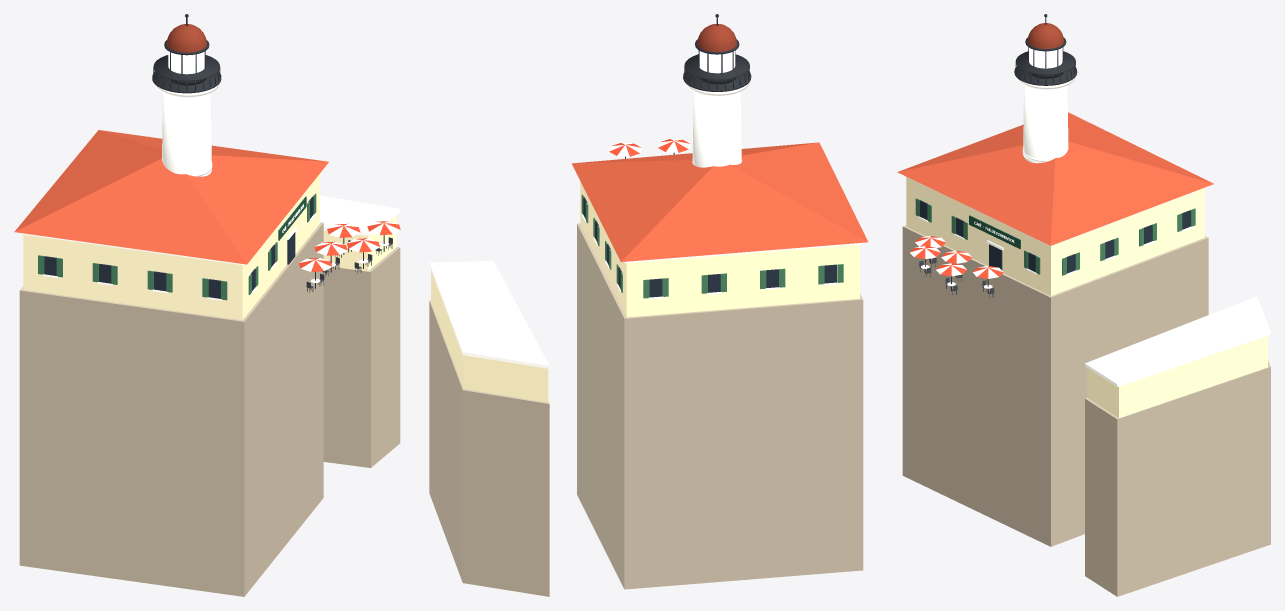
Rendered from formentor.glb.
3 renders of one model, left to right at view 1: azimuth 30°, elevation 25°; view 2: azimuth 150°, elevation 25°; view 3: azimuth 270°, elevation 25°, orthographic. The views are drawn at different scales.
Visible parts, largest first — view 1: Plinth, Roof, NEPlinth, Walls, Tower, NERoof, NEWalls, Dome, Rail, Gallery, Lantern; view 2: Plinth, Roof, NEPlinth, Walls, NERoof, NEWalls, Tower, Dome, Rail, Lantern, Gallery; view 3: Plinth, NEPlinth, Roof, Walls, NERoof, NEWalls, Tower, Dome, Rail, Gallery, Lantern, SignBoard.
Boxes of the visible parts, x1,y1,x2,y2 form: Plinth: (19, 222, 323, 596); Roof: (14, 130, 328, 264); NEPlinth: (323, 247, 400, 467); Walls: (23, 174, 319, 320); Tower: (162, 93, 211, 176); NERoof: (320, 195, 400, 236); NEWalls: (323, 215, 396, 271); Dome: (166, 24, 206, 52); Rail: (153, 55, 219, 81); Gallery: (152, 72, 221, 93); Lantern: (168, 51, 204, 74); Plinth: (577, 223, 863, 589); Roof: (571, 142, 867, 261); NEPlinth: (429, 300, 549, 596); Walls: (580, 181, 859, 317); NERoof: (429, 261, 549, 368); NEWalls: (431, 270, 548, 402); Tower: (692, 92, 741, 167); Dome: (697, 24, 736, 51); Rail: (684, 54, 749, 79); Lantern: (699, 51, 735, 73); Gallery: (683, 71, 751, 91); Plinth: (902, 225, 1208, 546); NEPlinth: (1085, 360, 1270, 596); Roof: (897, 112, 1213, 245); Walls: (906, 177, 1204, 295); NERoof: (1085, 296, 1270, 386); NEWalls: (1087, 336, 1267, 418); Tower: (1023, 85, 1068, 163); Dome: (1027, 23, 1063, 48); Rail: (1015, 51, 1075, 74); Gallery: (1014, 66, 1077, 85); Lantern: (1029, 47, 1062, 68); SignBoard: (969, 215, 1020, 248).
Bounding box in the file's own units: 41.55 × 49.61 × 35.68.
